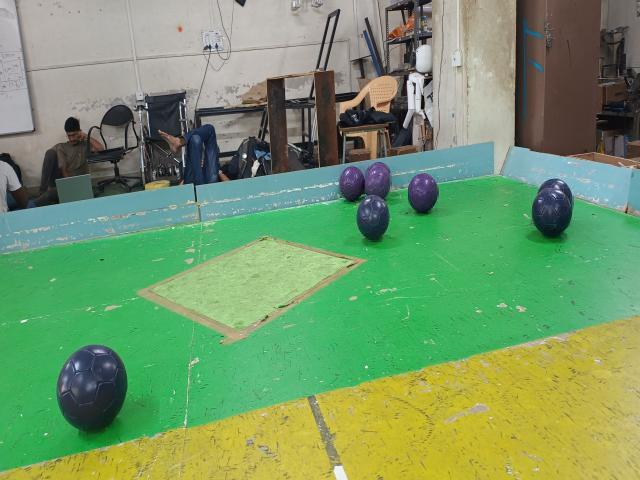jambhalya: (408, 174, 438, 214), (339, 167, 365, 201), (365, 166, 391, 199), (369, 162, 391, 173)
kaalyya: (56, 344, 127, 430), (532, 187, 573, 237), (356, 197, 390, 241), (538, 179, 573, 207)
